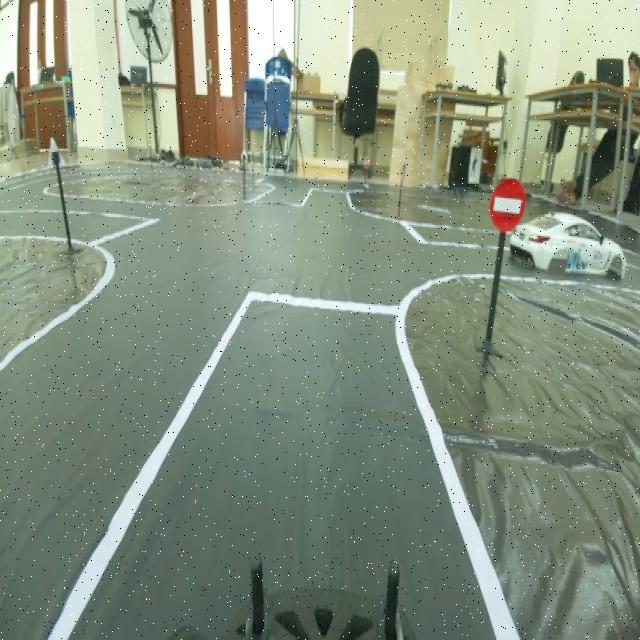no_entry: (490, 169, 540, 232)
